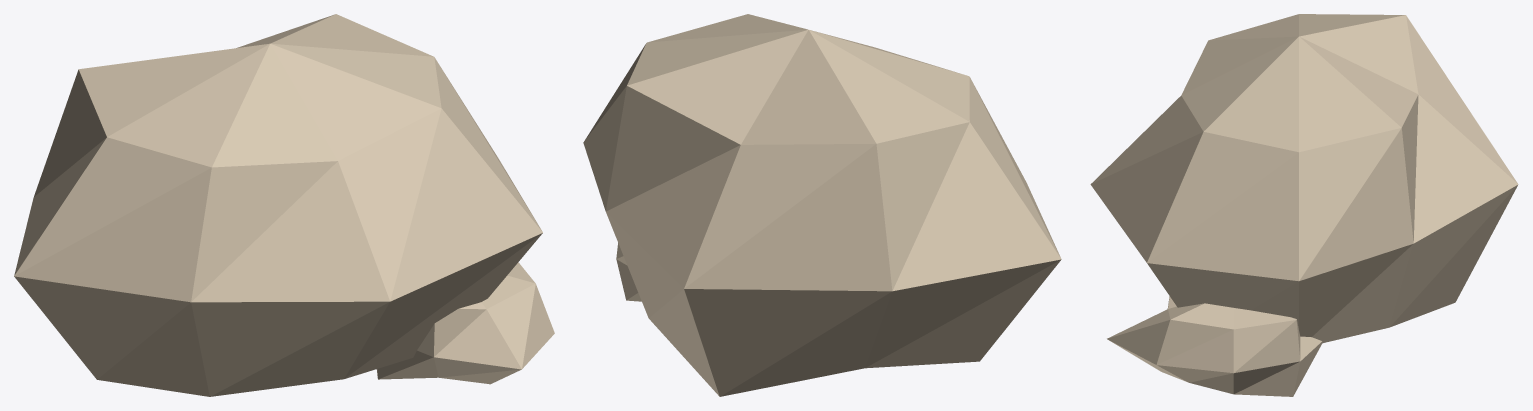
Rendered from beach_rock.glb.
3 renders of one model, left to right at view 1: azimuth 30°, elevation 25°; view 2: azimuth 150°, elevation 25°; view 3: azimuth 270°, elevation 25°, orthographic. The views are drawn at different scales.
Parts seen in each view (by area): view 1: beach_rock; view 2: beach_rock; view 3: beach_rock.
Part boxes in pixels (x1,y1,x2,y2): beach_rock: (14, 14, 554, 396); beach_rock: (583, 14, 1061, 396); beach_rock: (1090, 14, 1518, 396).
Size of the model in its own units: 2.23 by 1.5 by 1.97.
